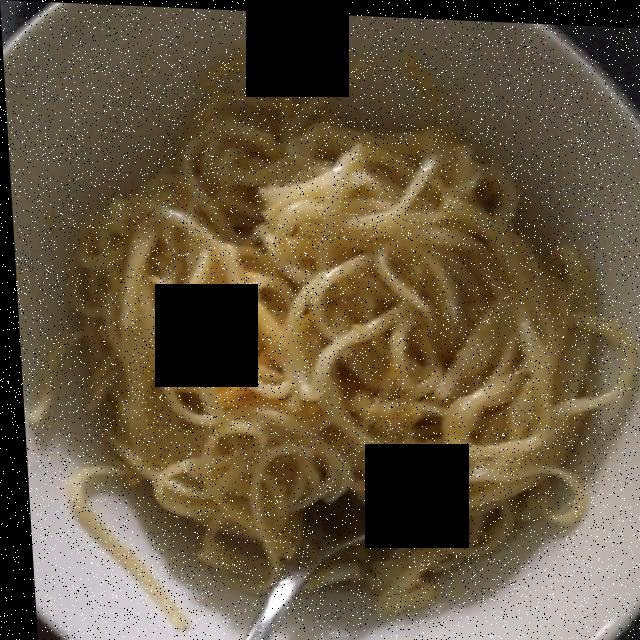pasta-spaghetti: (77, 68, 616, 600)
